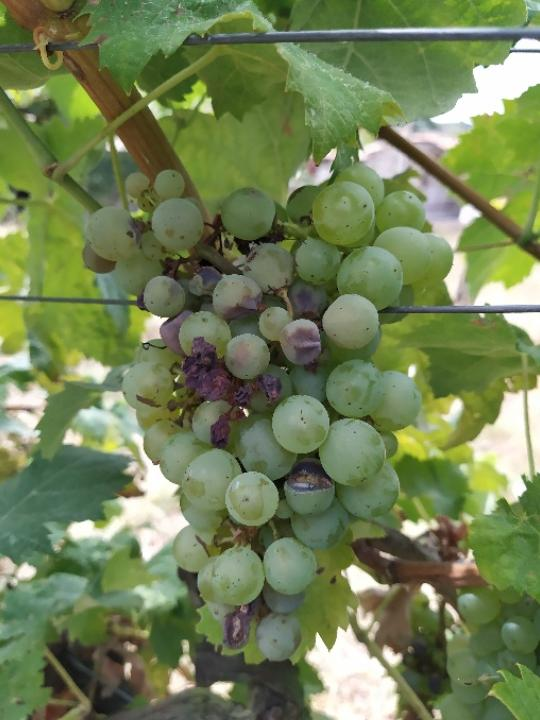grape: (82, 159, 457, 665)
